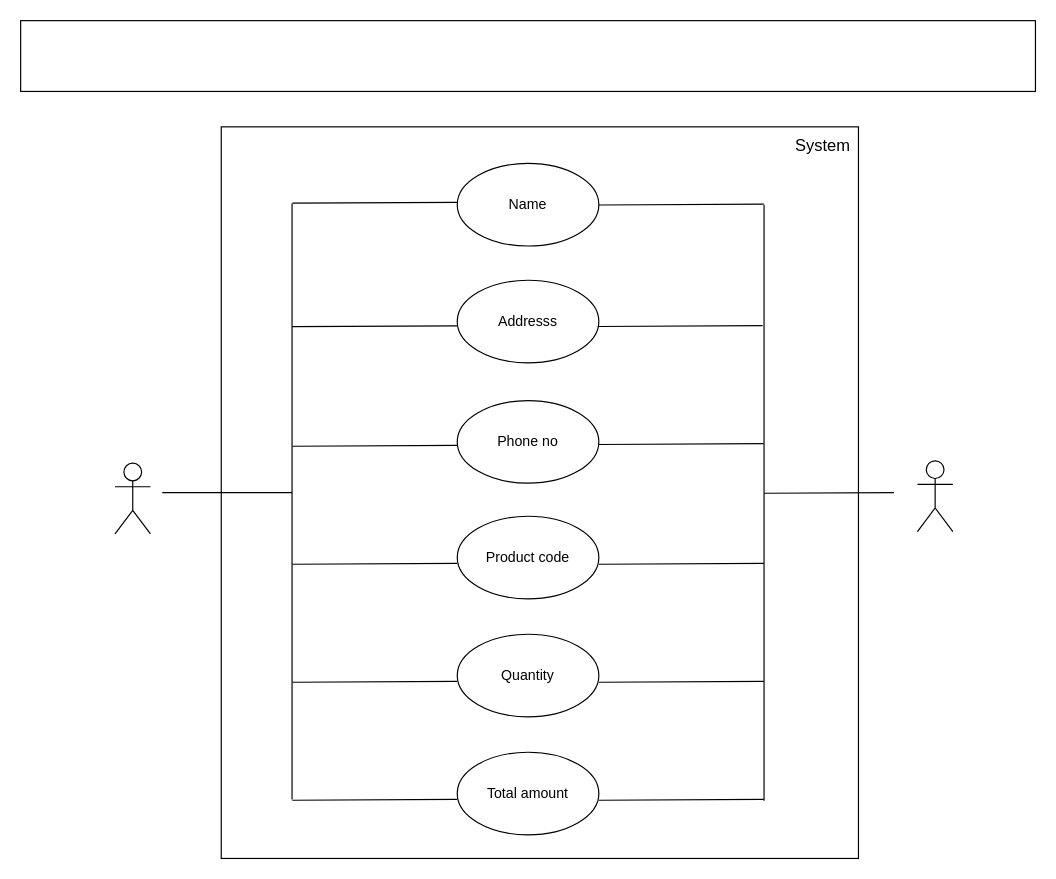
The diagram is 1056 pixels wide and 879 high, and some of its shapes have lost their labels. The shapes that lost their labels are listed below. From the top down, each one's centre as x and y in pixels, then its label:
(x=527, y=55): Offline Billing Management Use-Case Diagram
(x=132, y=498): Admin
(x=934, y=496): Database
